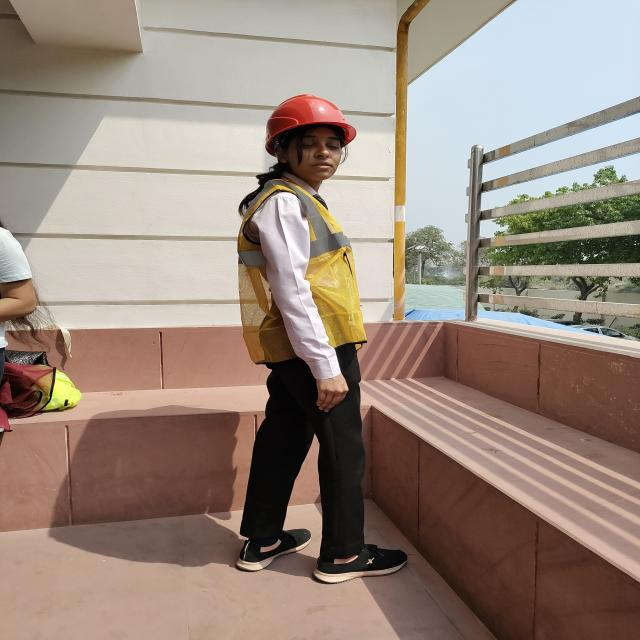safe: (238, 95, 368, 581)
